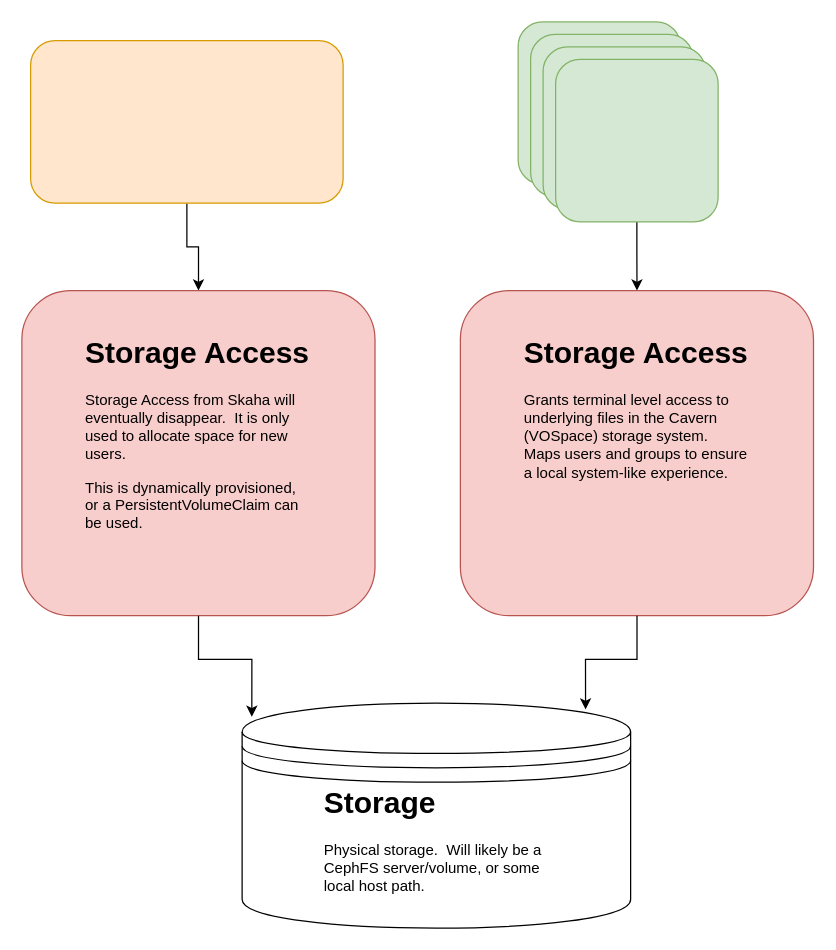
Image size: 836x950. Some labels were removed from this diagram. Each missing label, with the centre of its shape:
"Skaha web service" goes at point 186,121.
"User Sessions" goes at point 636,140.
